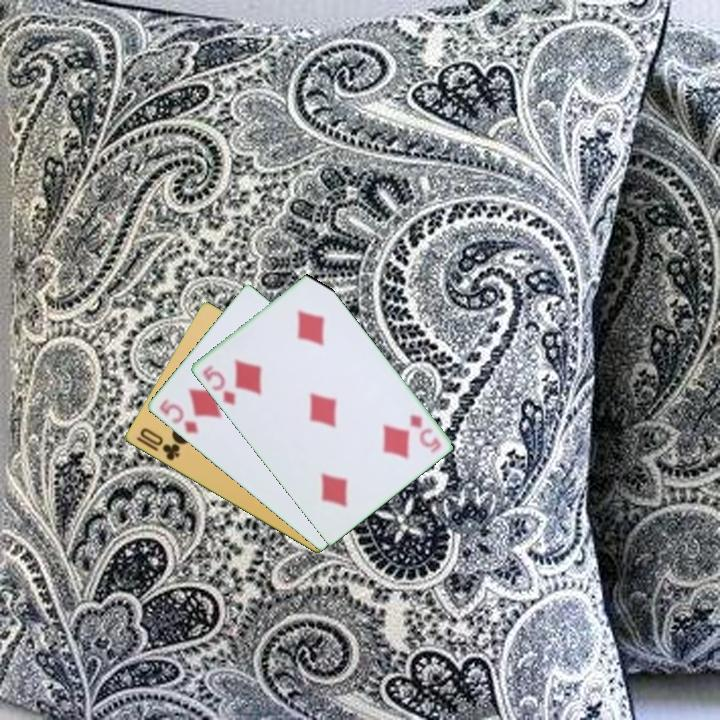10c: (136, 424, 183, 464)
5d: (155, 394, 201, 437), (199, 362, 238, 408), (405, 411, 444, 456)
